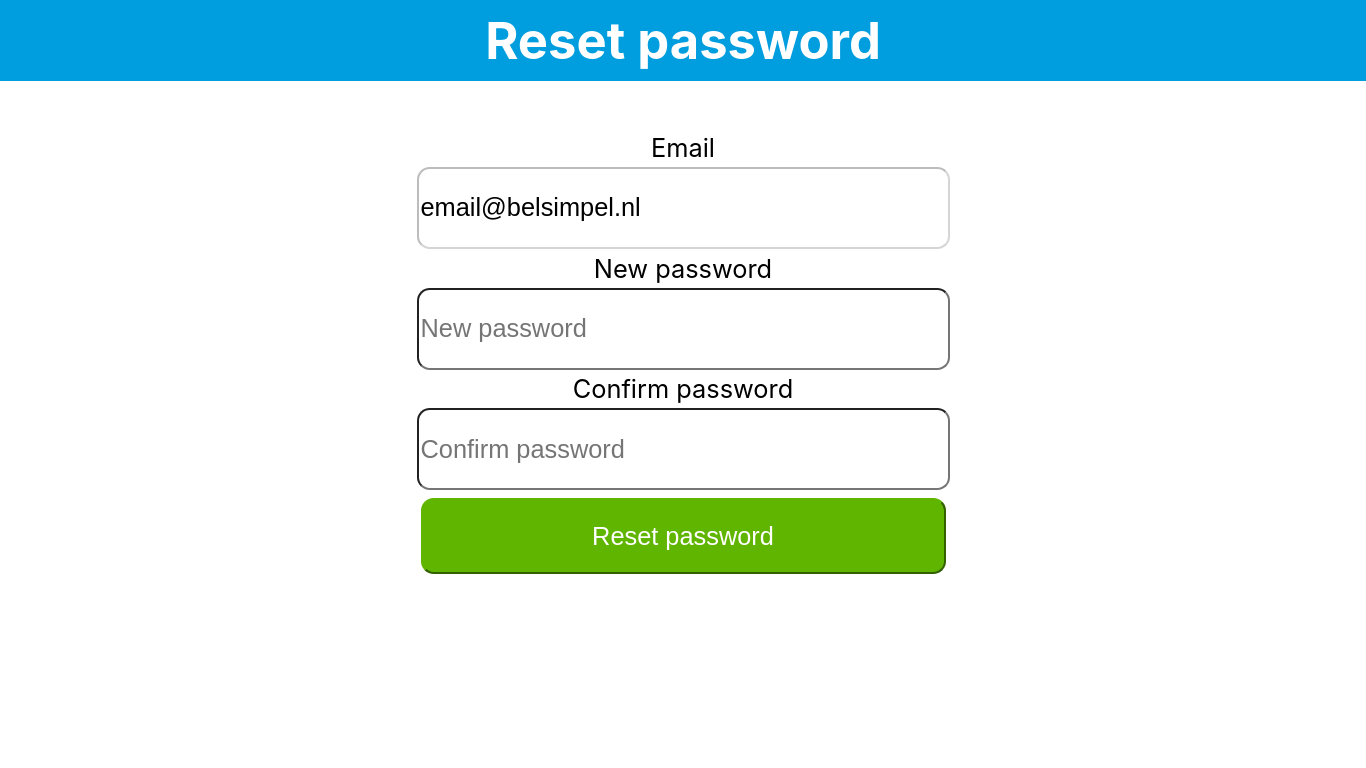
Test: forwards to login page after resetting password
This screenshot has width=1366, height=768.
In the password field with placeholder "New password": (683, 329) [416,288,950,370], type "password"
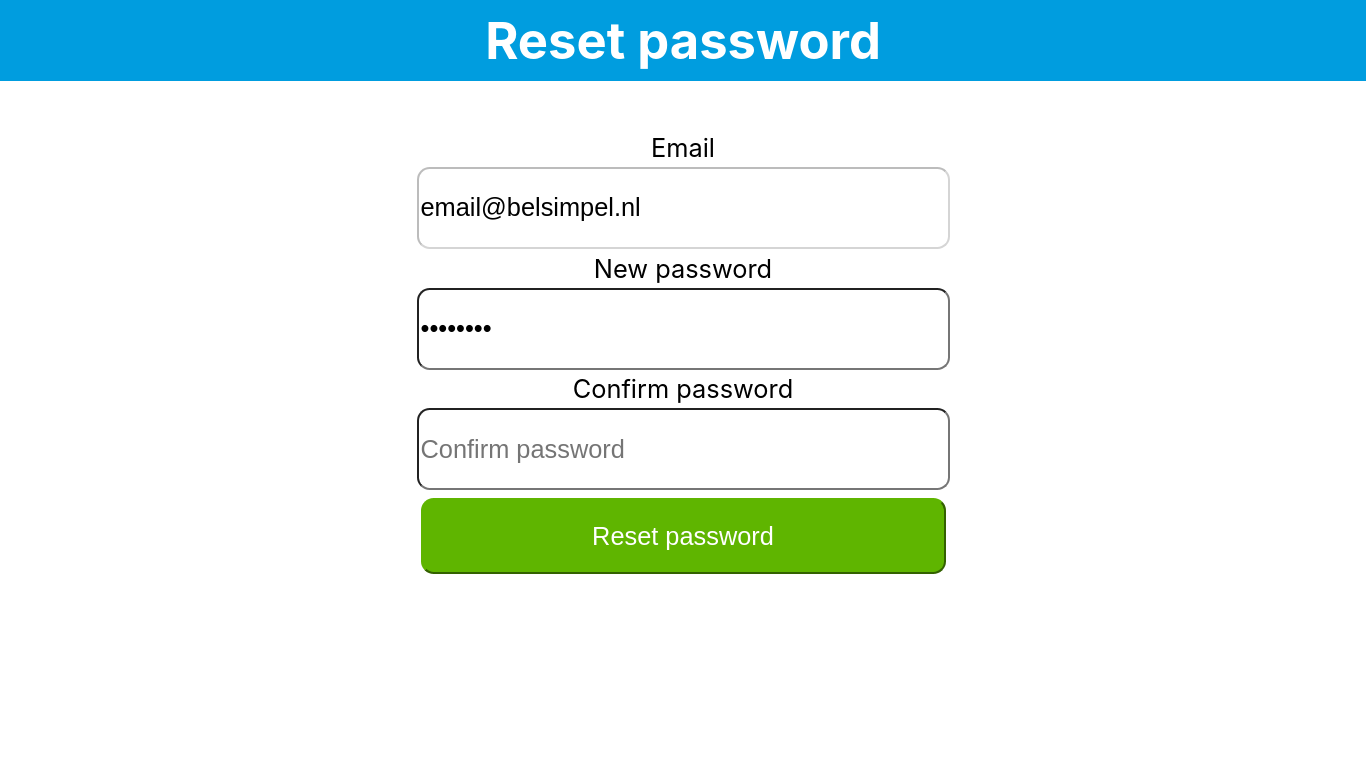
In the password field with placeholder "Confirm password": (683, 449) [416,408,950,490], type "password"
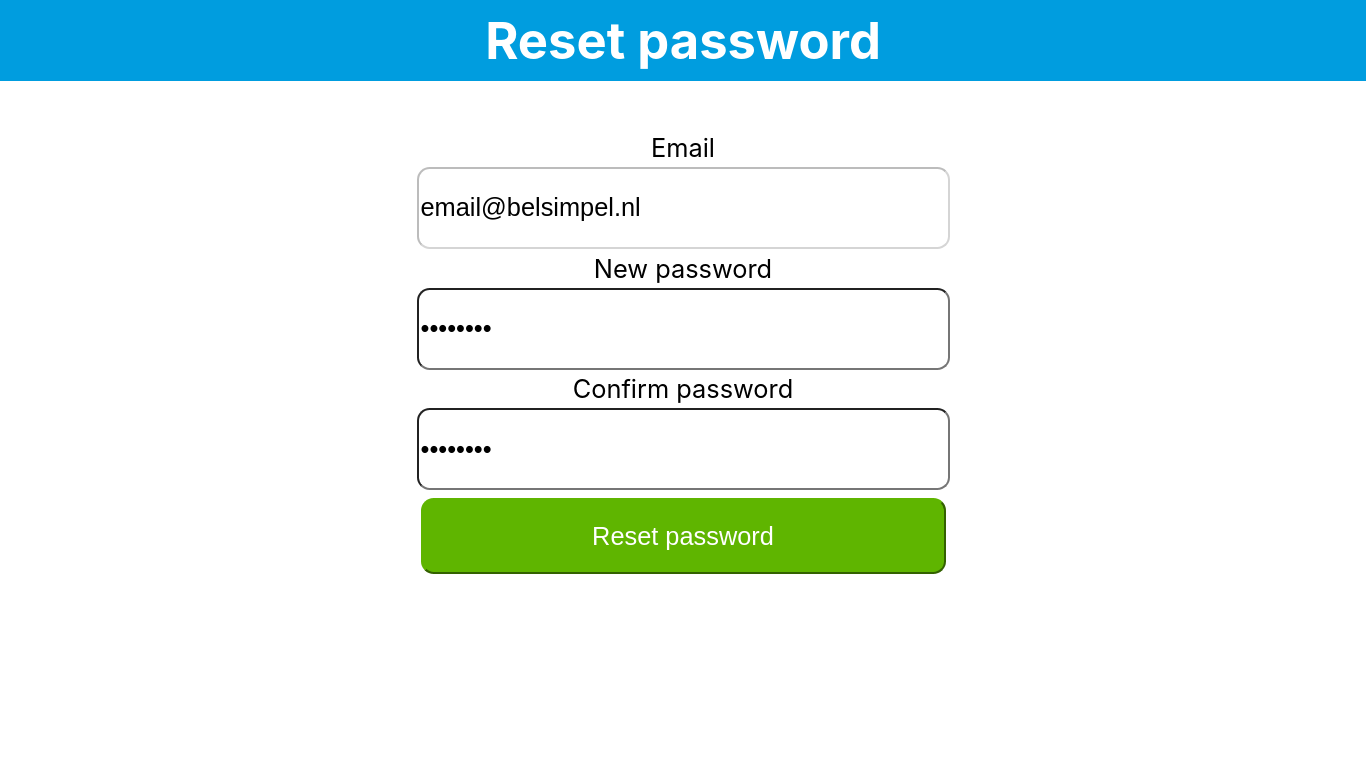
Click the button "Reset password": (683, 536) [420,498,946,574]
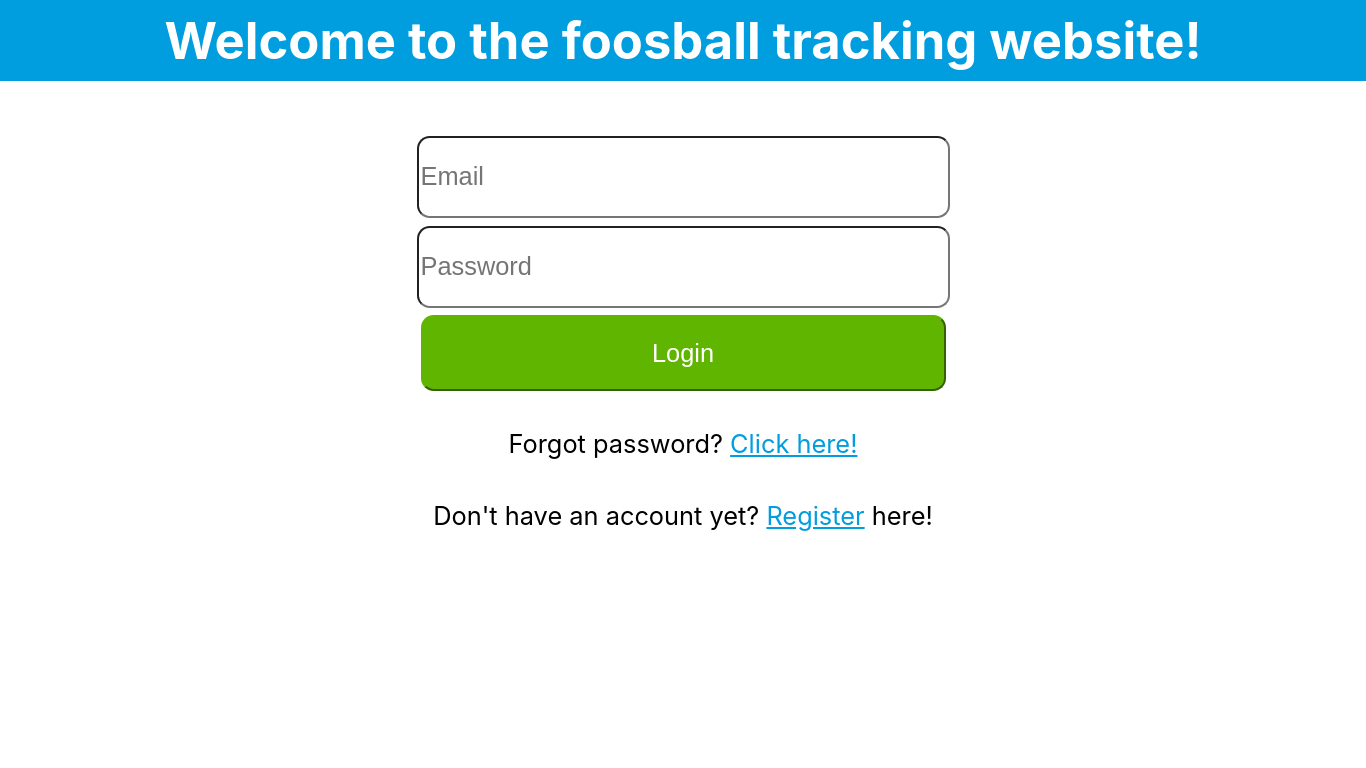
Result: the heading "Welcome to the foosball tracking website!" is shown at [0,0,1365,81]
Result: the text "Don't have an account yet? Register here!" is shown at [333,492,1033,538]
